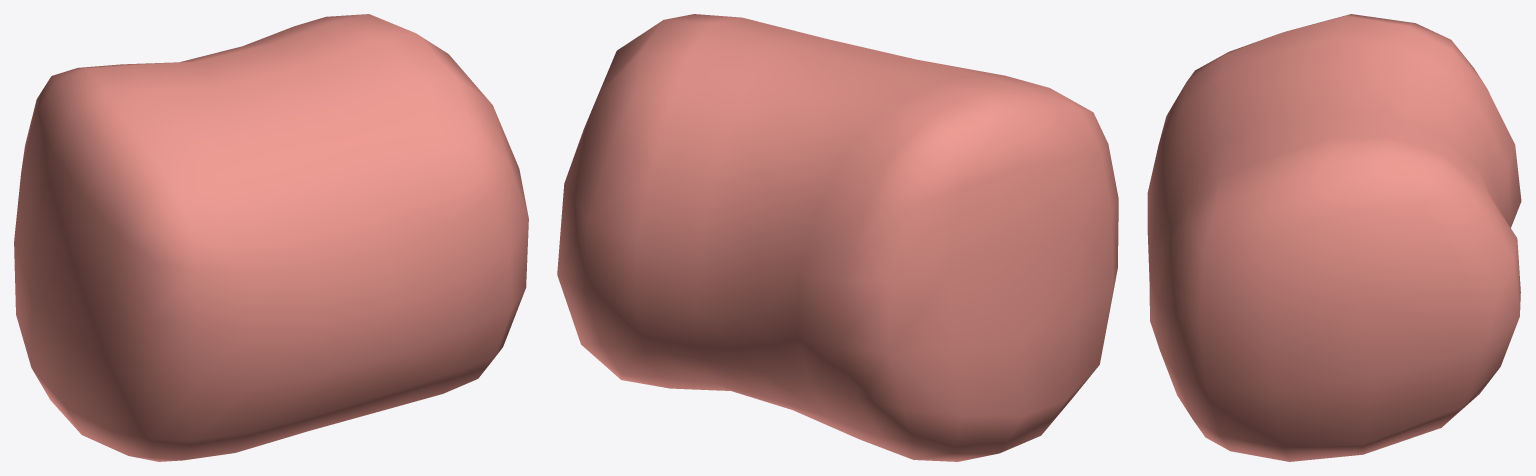
The model's file is mixamo_humanoid_surface_leftHandRing2.fbx.
The picture shows the model from 3 angles, left to right: view 1: azimuth 30°, elevation 25°; view 2: azimuth 150°, elevation 25°; view 3: azimuth 270°, elevation 25°; orthographic projection. The views are drawn at different scales.
Parts seen in each view (by area): view 1: surface_LeftHandRing2; view 2: surface_LeftHandRing2; view 3: surface_LeftHandRing2.
Part boxes in pixels (x1,y1,x2,y2): surface_LeftHandRing2: (14, 14, 528, 461); surface_LeftHandRing2: (557, 14, 1118, 461); surface_LeftHandRing2: (1147, 14, 1521, 461).
Size of the model in its own units: 2.29 by 1.69 by 1.81.
